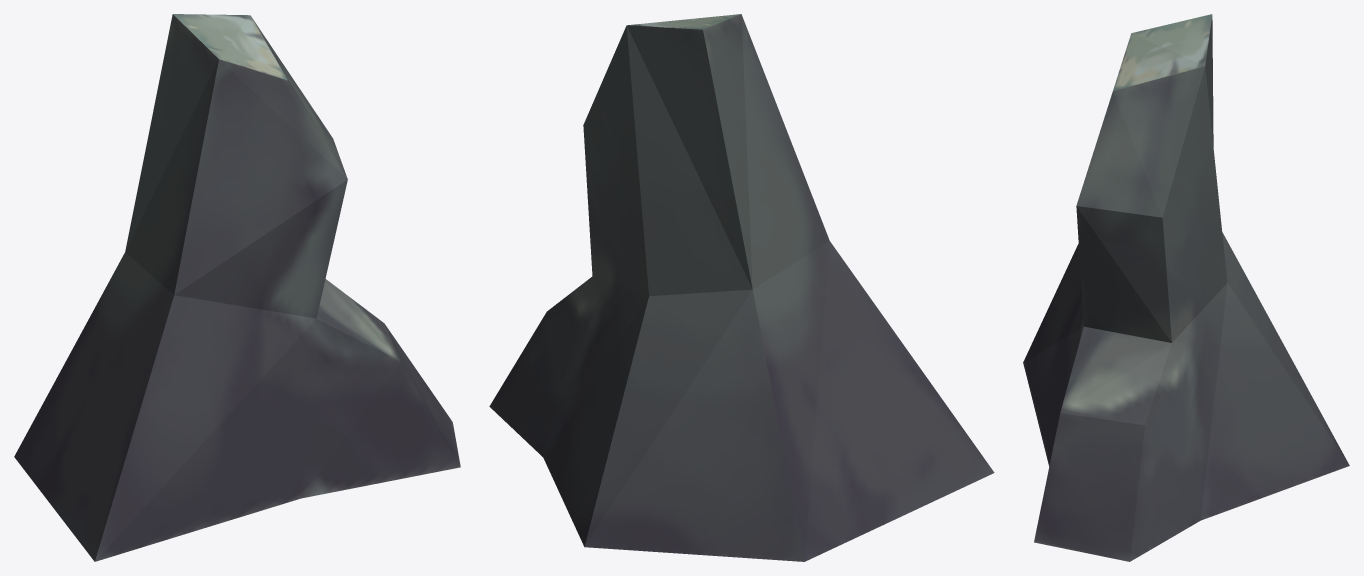
File: Bigmap_XingHaiZhiXin_shitou.FBX
3 renders of one model, left to right at view 1: azimuth 30°, elevation 25°; view 2: azimuth 150°, elevation 25°; view 3: azimuth 270°, elevation 25°, orthographic. The views are drawn at different scales.
Parts seen in each view (by area): view 1: Object08; view 2: Object08; view 3: Object08.
Part boxes in pixels (left/top/right/bottom): Object08: left=14, top=14, right=460, bottom=561; Object08: left=489, top=14, right=994, bottom=561; Object08: left=1023, top=14, right=1349, bottom=561.
Size of the model in its own units: 16.71 by 16.91 by 11.58.
